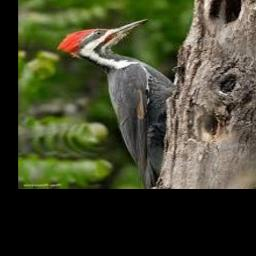Woodpecker: (57, 19, 176, 189)
